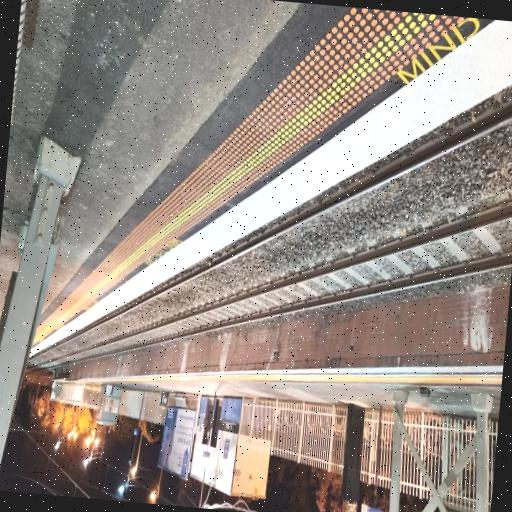Obstruction: (200, 390, 217, 500)
clear_path: (40, 0, 489, 343), (123, 383, 390, 404)
platform_edge: (34, 27, 512, 353), (118, 366, 502, 380)
tgsi: (37, 10, 462, 342), (238, 376, 500, 387), (124, 377, 239, 382)
